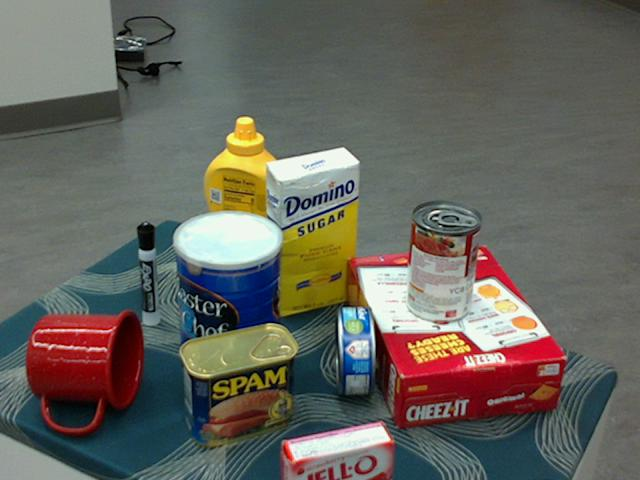cracker_box: (343, 248, 565, 424)
gelatin_box: (278, 421, 391, 479)
large_marker: (136, 220, 157, 325)
master_chef_can: (174, 211, 283, 385)
mug: (25, 309, 143, 432)
mustard_bottle: (203, 117, 287, 286)
potted_meat_can: (179, 323, 298, 446)
sugar_box: (265, 149, 360, 318)
tomato_soup_can: (404, 202, 481, 324)
tuna_fish_can: (336, 305, 375, 394)
